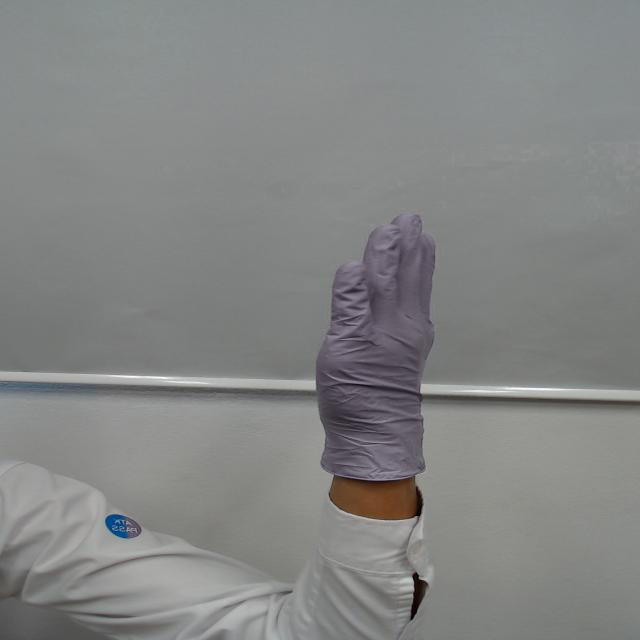glove: (287, 199, 476, 416)
